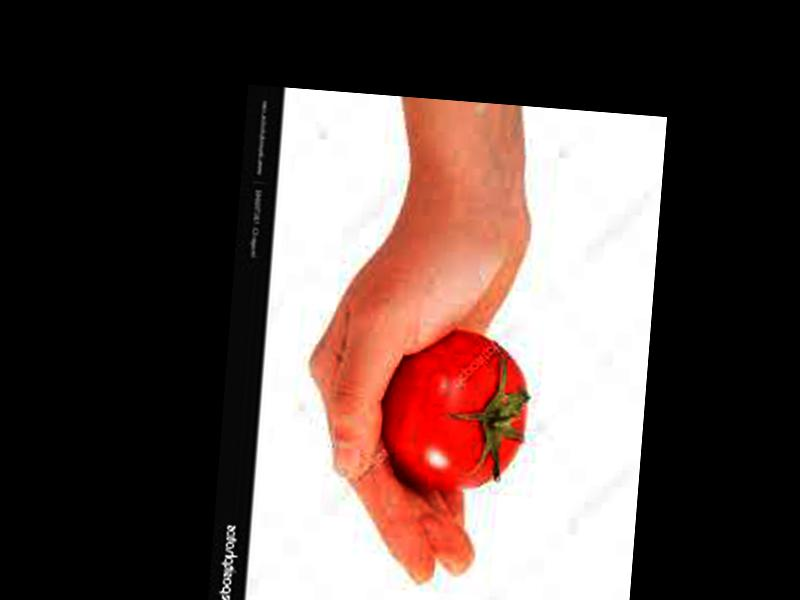Tomato: (379, 323, 531, 491)
